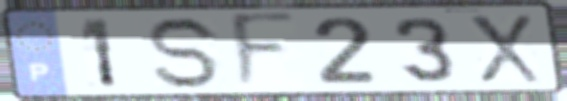1: (78, 16, 120, 92)
2: (310, 15, 382, 88)
3: (392, 15, 460, 84)
F: (227, 10, 300, 94)
S: (145, 15, 225, 91)
X: (464, 13, 545, 85)
